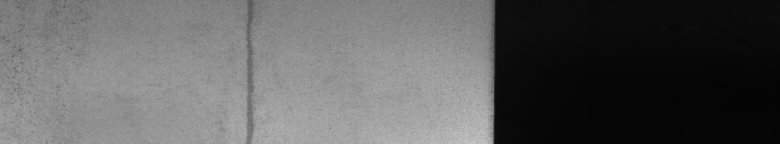hd: (236, 4, 260, 136)
